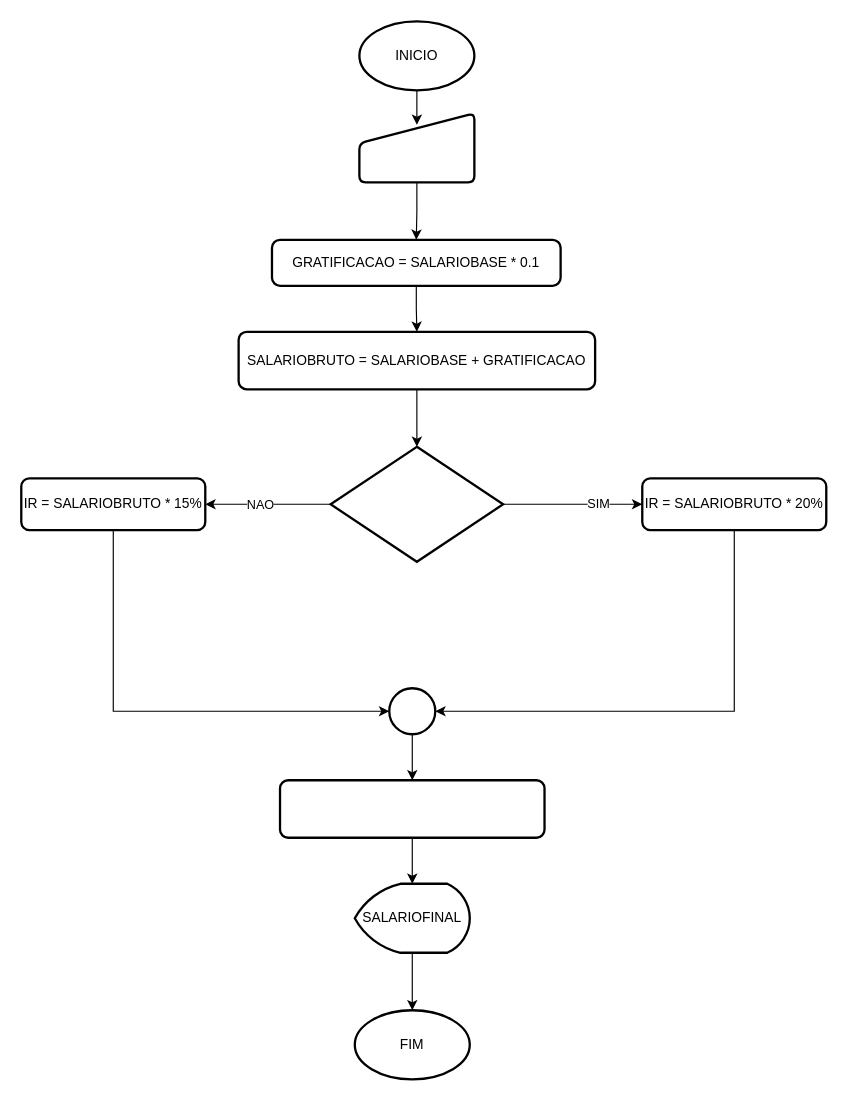
Some shapes in this 846 by 1099 pixel diagram are drawn without their labels. The shapes that lost their labels are listed below. From the top down, each one's centre as x and y in pixels, then its label:
At [416,147]: "SALARIOBASE".
At [416,503]: "SALARIOBRUTO > 1200".
At [411,808]: "SALARIOFINAL = SALARIOBRUTO - IR".
